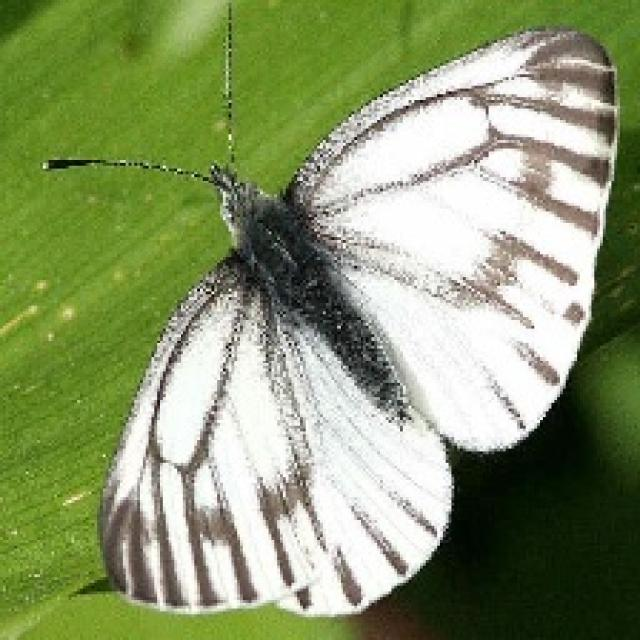butterfly: (37, 0, 620, 617)
